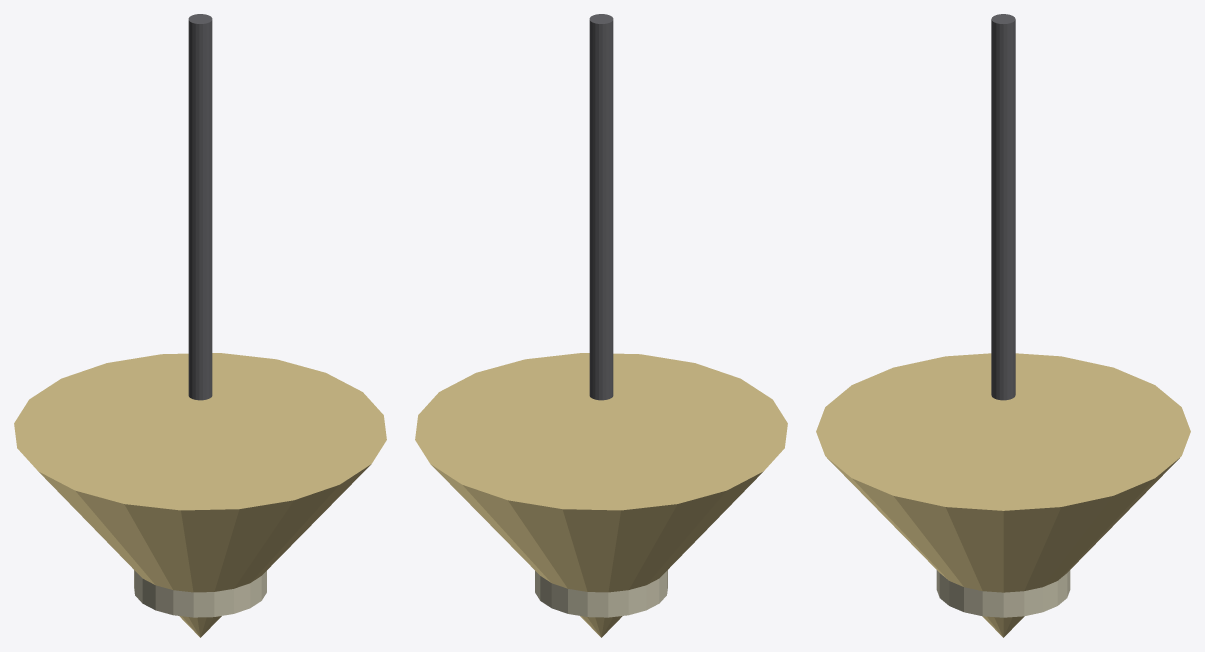
File: ceiling_lamp.glb
3 renders of one model, left to right at view 1: azimuth 30°, elevation 25°; view 2: azimuth 150°, elevation 25°; view 3: azimuth 270°, elevation 25°, orthographic.
Visible parts, largest first — view 1: Shade, Cord, Bulb; view 2: Shade, Cord, Bulb; view 3: Shade, Cord, Bulb.
Part boxes in pixels (x1,y1,x2,y2): Shade: (14,353,386,637); Cord: (188,14,212,400); Bulb: (134,570,266,617); Shade: (415,353,787,637); Cord: (589,14,613,400); Bulb: (535,570,667,617); Shade: (816,353,1190,637); Cord: (991,14,1015,400); Bulb: (936,570,1070,617).
Size of the model in its own units: 0.56 by 1.02 by 0.56.
